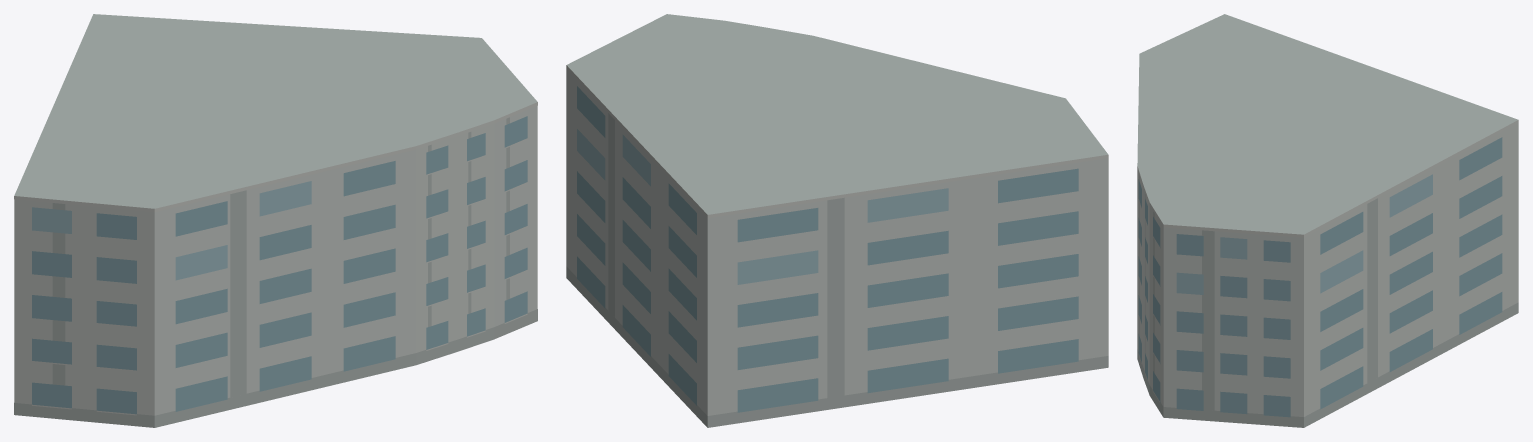
The model's file is survey-upis-32847626.glb.
3 renders of one model, left to right at view 1: azimuth 30°, elevation 25°; view 2: azimuth 150°, elevation 25°; view 3: azimuth 270°, elevation 25°, orthographic. The views are drawn at different scales.
Visible parts, largest first — view 1: survey-upis-32847626.tmp; view 2: survey-upis-32847626.tmp; view 3: survey-upis-32847626.tmp.
Part boxes in pixels (<box>): survey-upis-32847626.tmp: <box>14,14,537,427</box>; survey-upis-32847626.tmp: <box>566,14,1108,427</box>; survey-upis-32847626.tmp: <box>1137,14,1518,427</box>.
Size of the model in its own units: 37.35 by 15.25 by 27.27.
